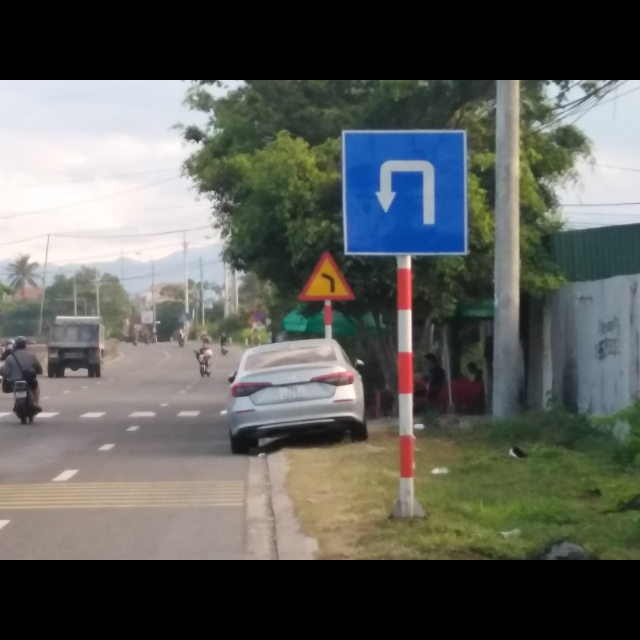Khu vực quay đầu xe: (340, 131, 468, 262)
